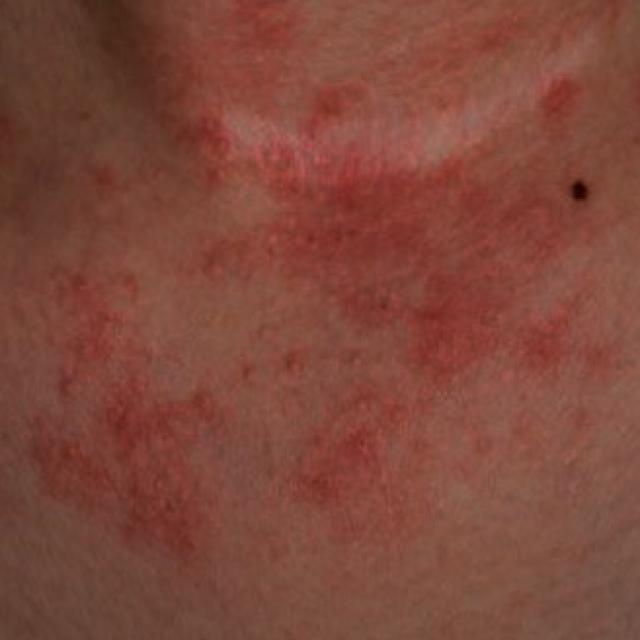AtopicDermatitis: (2, 59, 638, 542)
